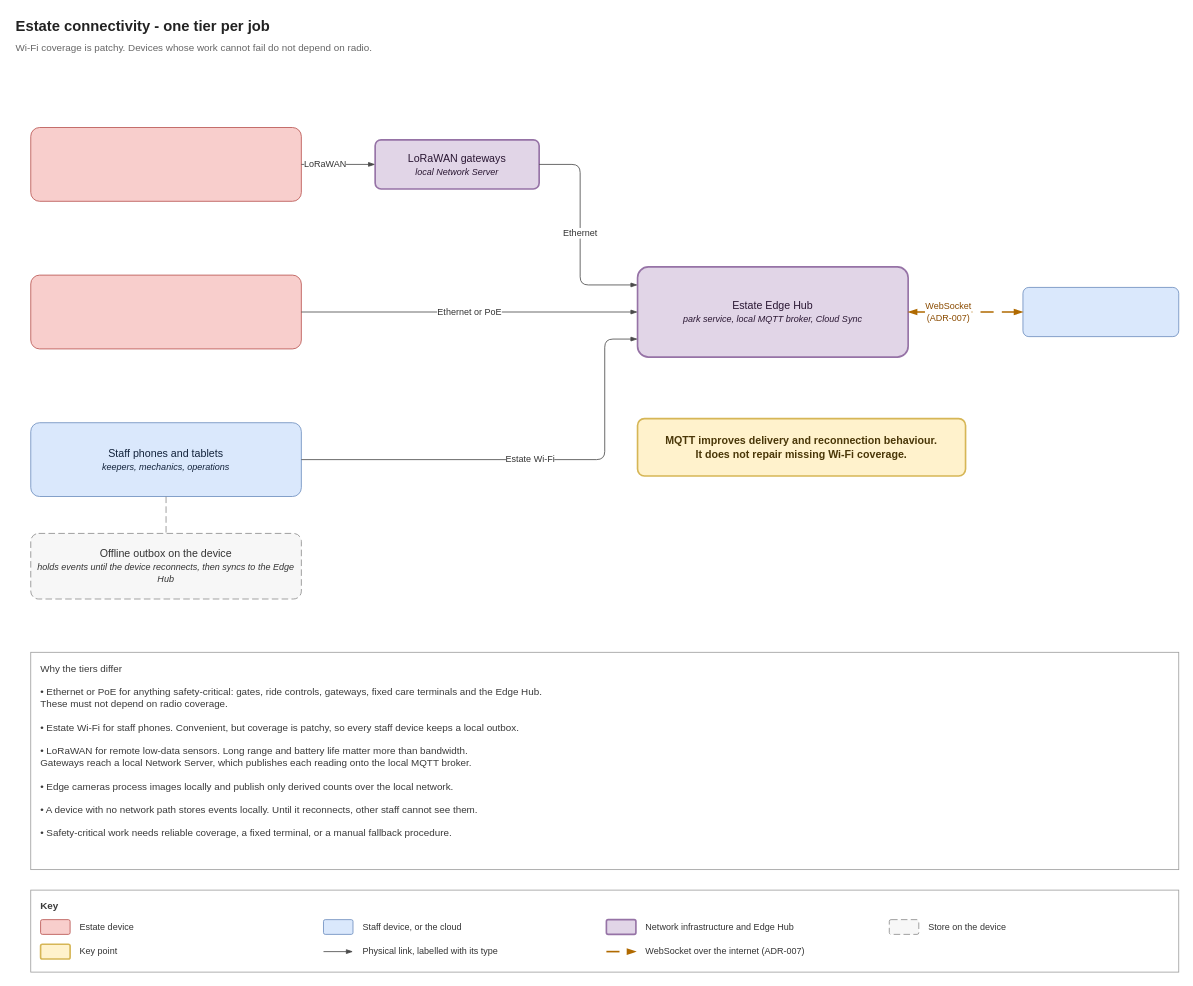
The diagram is 1193 pixels wide and 986 high, and some of its shapes have lost their labels. Each missing label, with the centre of its shape:
"Cloud" goes at point (1100, 312).
"Fixed installations gates, ride controls, care terminals, edge cameras" goes at point (165, 311).
"Remote low-data sensors animal, enclosure and environment readings" goes at point (165, 164).
